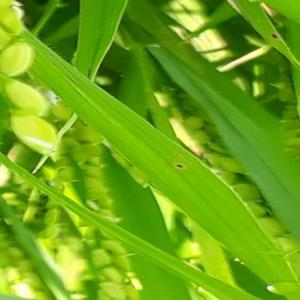Brown_Spot: (170, 158, 188, 174), (267, 29, 282, 44)
